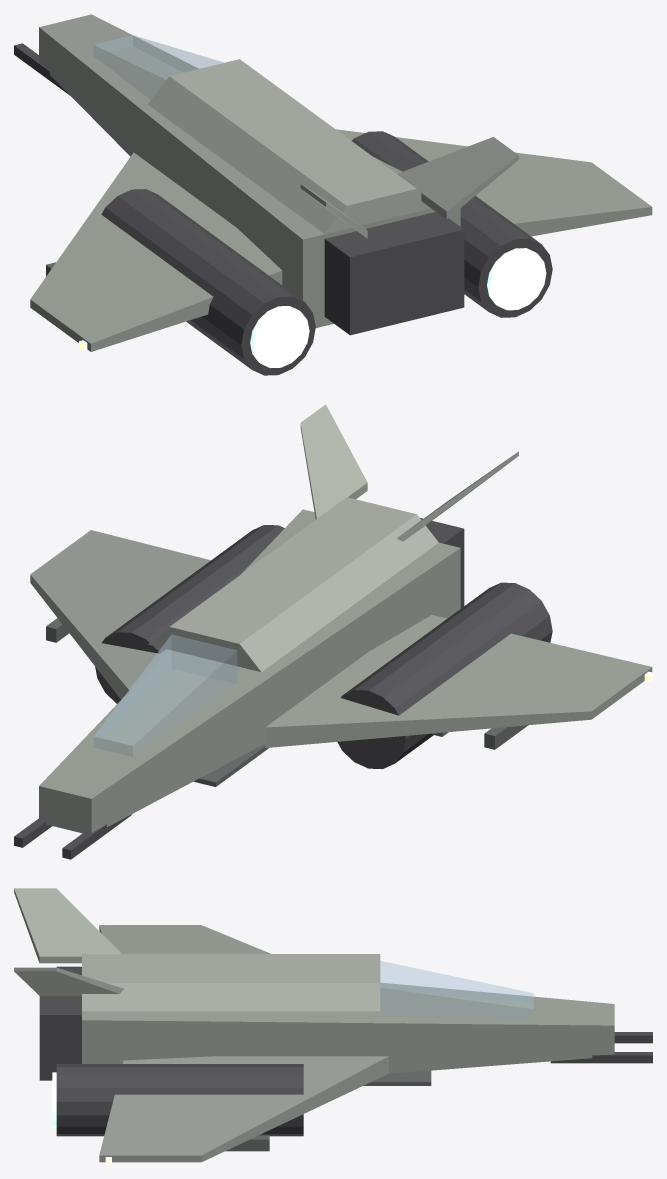
Rendered from ship_XS_BOMBER.glb.
3 renders of one model, top to bottom at view 1: azimuth 30°, elevation 25°; view 2: azimuth 150°, elevation 25°; view 3: azimuth 270°, elevation 25°, orthographic. The views are drawn at different scales.
Parts seen in each view (by area): view 1: XS_BOMBER_Hull-col, XS_BOMBER_Engines, XS_BOMBER_Armor, XS_BOMBER_EngineGlow, XS_BOMBER_Glass-col; view 2: XS_BOMBER_Hull-col, XS_BOMBER_Armor, XS_BOMBER_Engines, XS_BOMBER_Glass-col, XS_BOMBER_Trim, XS_BOMBER_BombBayDoors; view 3: XS_BOMBER_Hull-col, XS_BOMBER_Armor, XS_BOMBER_Engines, XS_BOMBER_Glass-col, XS_BOMBER_BombBayDoors, XS_BOMBER_Trim.
Part boxes in pixels (x1,y1,x2,y2): XS_BOMBER_Hull-col: (30,14,652,351); XS_BOMBER_Engines: (14,43,552,375); XS_BOMBER_Armor: (147,59,518,238); XS_BOMBER_EngineGlow: (250,248,546,368); XS_BOMBER_Glass-col: (94,35,223,99); XS_BOMBER_Hull-col: (30,509,652,833); XS_BOMBER_Armor: (148,404,518,672); XS_BOMBER_Engines: (14,518,552,859); XS_BOMBER_Glass-col: (94,634,236,756); XS_BOMBER_Trim: (46,618,527,749); XS_BOMBER_BombBayDoors: (194,744,269,786); XS_BOMBER_Hull-col: (82,925,614,1162); XS_BOMBER_Armor: (14,888,380,1011); XS_BOMBER_Engines: (39,966,652,1136); XS_BOMBER_Glass-col: (380,961,533,1018); XS_BOMBER_BombBayDoors: (363,1070,431,1085); XS_BOMBER_Trim: (225,1135,269,1151).
Size of the model in its own units: 13 by 4.05 by 15.
